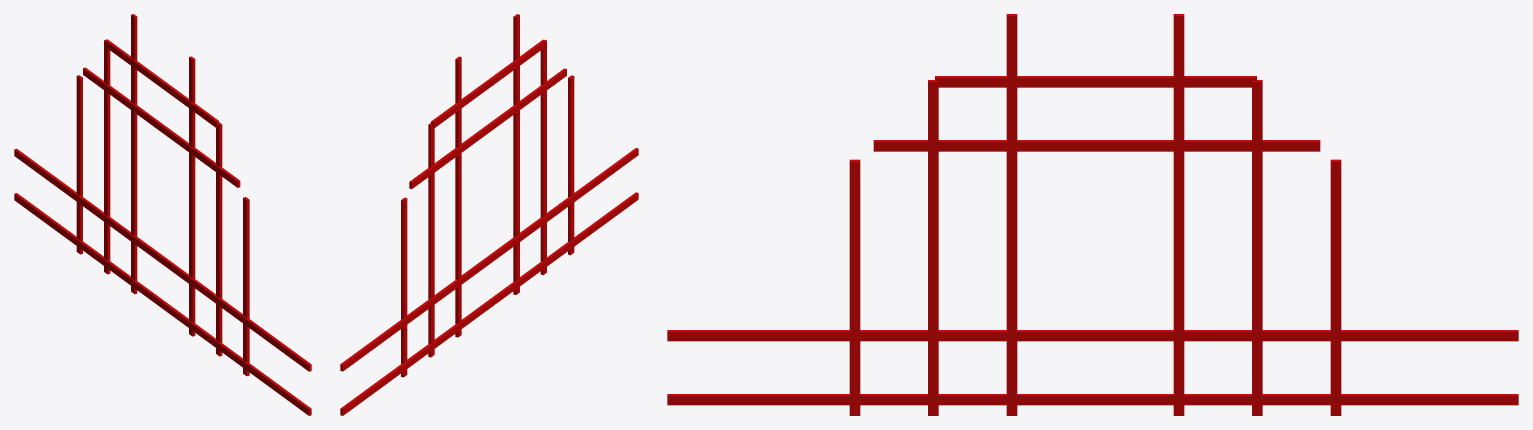
File: Attic_WoodenFrame_02_LP.glb
The picture shows the model from 3 angles, left to right: view 1: azimuth 30°, elevation 25°; view 2: azimuth 150°, elevation 25°; view 3: azimuth 270°, elevation 25°; orthographic projection. The views are drawn at different scales.
Visible parts, largest first — view 1: Attic_WoodenFrame_02_LP; view 2: Attic_WoodenFrame_02_LP; view 3: Attic_WoodenFrame_02_LP.
Boxes of the visible parts, left/top/right/bottom form: Attic_WoodenFrame_02_LP: left=14, top=14, right=311, bottom=415; Attic_WoodenFrame_02_LP: left=340, top=14, right=638, bottom=415; Attic_WoodenFrame_02_LP: left=667, top=14, right=1518, bottom=415.
Size of the model in its own units: 0.0625 by 4.42 by 8.52.
